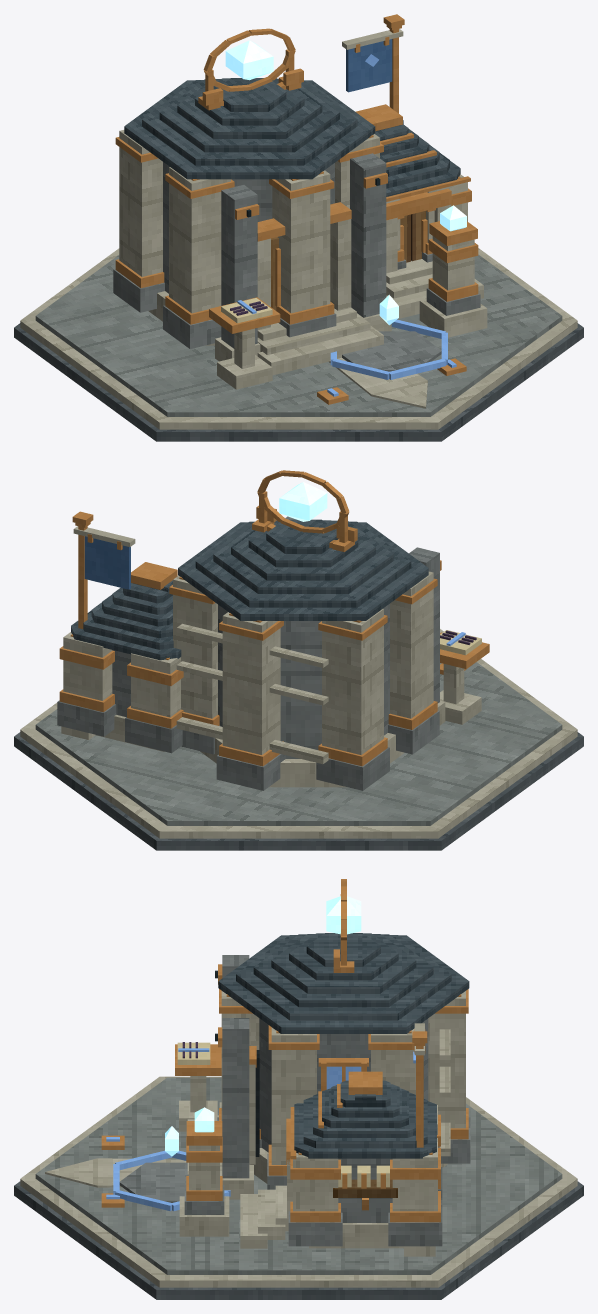
Rendered from dwarf_arcane_conclave_hex_v1.glb.
The picture shows the model from 3 angles, top to bottom: view 1: azimuth 30°, elevation 25°; view 2: azimuth 150°, elevation 25°; view 3: azimuth 270°, elevation 25°; orthographic projection.
Parts seen in each view (by area): view 1: Dwarf_Arcane_Conclave_Hex_V1_Foundation, Dwarf_Arcane_Conclave_Hex_V1_Hall, Dwarf_Arcane_Conclave_Hex_V1_Roofs, Dwarf_Arcane_Conclave_Hex_V1_Details, Dwarf_Arcane_Conclave_Hex_V1_Focus, Dwarf_Arcane_Conclave_Hex_V1_Courtyard, Dwarf_Arcane_Conclave_Hex_V1_Training, Dwarf_Arcane_Conclave_Hex_V1_Faction; view 2: Dwarf_Arcane_Conclave_Hex_V1_Hall, Dwarf_Arcane_Conclave_Hex_V1_Foundation, Dwarf_Arcane_Conclave_Hex_V1_Roofs, Dwarf_Arcane_Conclave_Hex_V1_Details, Dwarf_Arcane_Conclave_Hex_V1_Focus, Dwarf_Arcane_Conclave_Hex_V1_Faction, Dwarf_Arcane_Conclave_Hex_V1_Training; view 3: Dwarf_Arcane_Conclave_Hex_V1_Foundation, Dwarf_Arcane_Conclave_Hex_V1_Hall, Dwarf_Arcane_Conclave_Hex_V1_Roofs, Dwarf_Arcane_Conclave_Hex_V1_Details, Dwarf_Arcane_Conclave_Hex_V1_Training, Dwarf_Arcane_Conclave_Hex_V1_Focus, Dwarf_Arcane_Conclave_Hex_V1_Courtyard, Dwarf_Arcane_Conclave_Hex_V1_Faction.
Boxes of the visible parts, x1,y1,x2,y2 form: Dwarf_Arcane_Conclave_Hex_V1_Foundation: (14, 248, 583, 441); Dwarf_Arcane_Conclave_Hex_V1_Hall: (113, 130, 471, 348); Dwarf_Arcane_Conclave_Hex_V1_Roofs: (124, 78, 470, 201); Dwarf_Arcane_Conclave_Hex_V1_Details: (191, 135, 466, 404); Dwarf_Arcane_Conclave_Hex_V1_Focus: (198, 28, 487, 337); Dwarf_Arcane_Conclave_Hex_V1_Courtyard: (257, 259, 483, 408); Dwarf_Arcane_Conclave_Hex_V1_Training: (209, 294, 447, 389); Dwarf_Arcane_Conclave_Hex_V1_Faction: (342, 14, 404, 113); Dwarf_Arcane_Conclave_Hex_V1_Hall: (57, 571, 439, 790); Dwarf_Arcane_Conclave_Hex_V1_Foundation: (14, 629, 583, 850); Dwarf_Arcane_Conclave_Hex_V1_Roofs: (71, 519, 428, 660); Dwarf_Arcane_Conclave_Hex_V1_Details: (70, 516, 466, 764); Dwarf_Arcane_Conclave_Hex_V1_Focus: (252, 470, 357, 551); Dwarf_Arcane_Conclave_Hex_V1_Faction: (61, 511, 135, 739); Dwarf_Arcane_Conclave_Hex_V1_Training: (440, 630, 489, 724); Dwarf_Arcane_Conclave_Hex_V1_Foundation: (14, 1076, 583, 1299); Dwarf_Arcane_Conclave_Hex_V1_Hall: (217, 989, 470, 1248); Dwarf_Arcane_Conclave_Hex_V1_Roofs: (218, 933, 469, 1159); Dwarf_Arcane_Conclave_Hex_V1_Details: (101, 955, 461, 1207); Dwarf_Arcane_Conclave_Hex_V1_Training: (113, 1042, 397, 1211); Dwarf_Arcane_Conclave_Hex_V1_Focus: (179, 879, 361, 1236); Dwarf_Arcane_Conclave_Hex_V1_Courtyard: (45, 1115, 288, 1248); Dwarf_Arcane_Conclave_Hex_V1_Faction: (404, 1023, 435, 1256).
Size of the model in its own units: 1.59 by 1.06 by 1.84.
Materials: 1 (1 with a texture image).
